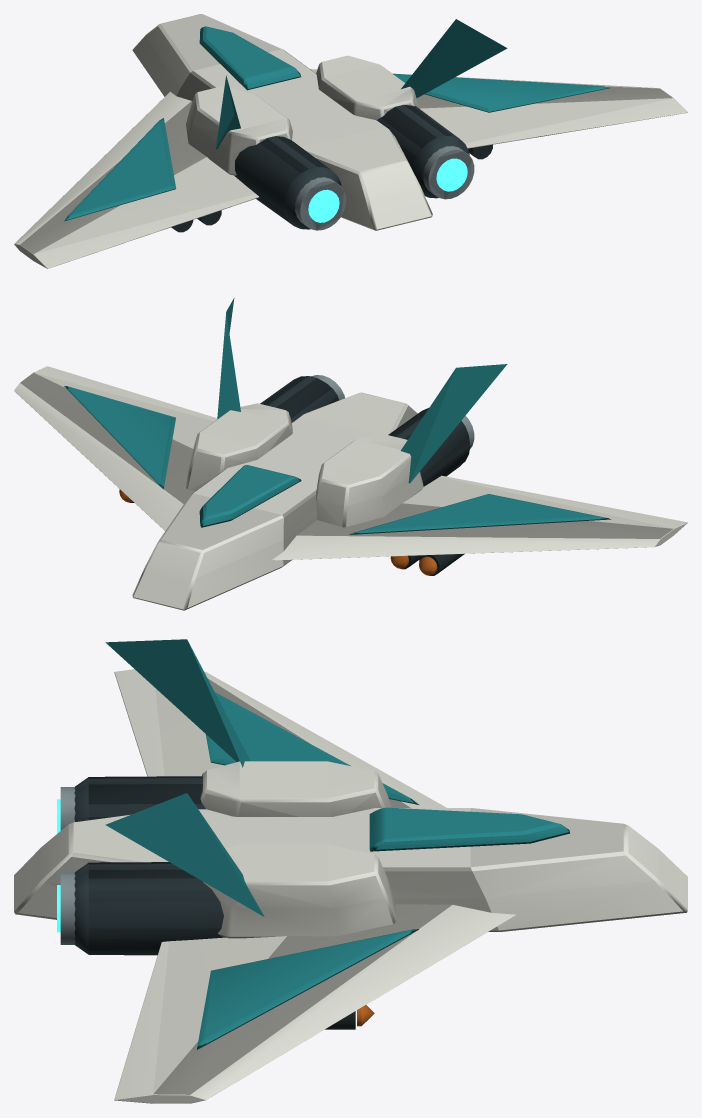
File: WraithStriker.glb
The picture shows the model from 3 angles, top to bottom: view 1: azimuth 30°, elevation 25°; view 2: azimuth 150°, elevation 25°; view 3: azimuth 270°, elevation 25°; orthographic projection. The views are drawn at different scales.
Parts seen in each view (by area): view 1: export_WraithStriker_Fuselage; view 2: export_WraithStriker_Fuselage; view 3: export_WraithStriker_Fuselage.
Part boxes in pixels (box(x1,y1,x2,y2)): export_WraithStriker_Fuselage: box(14, 14, 687, 268); export_WraithStriker_Fuselage: box(14, 298, 687, 610); export_WraithStriker_Fuselage: box(14, 639, 687, 1103).
Size of the model in its own units: 6.8 by 1.57 by 4.52.
